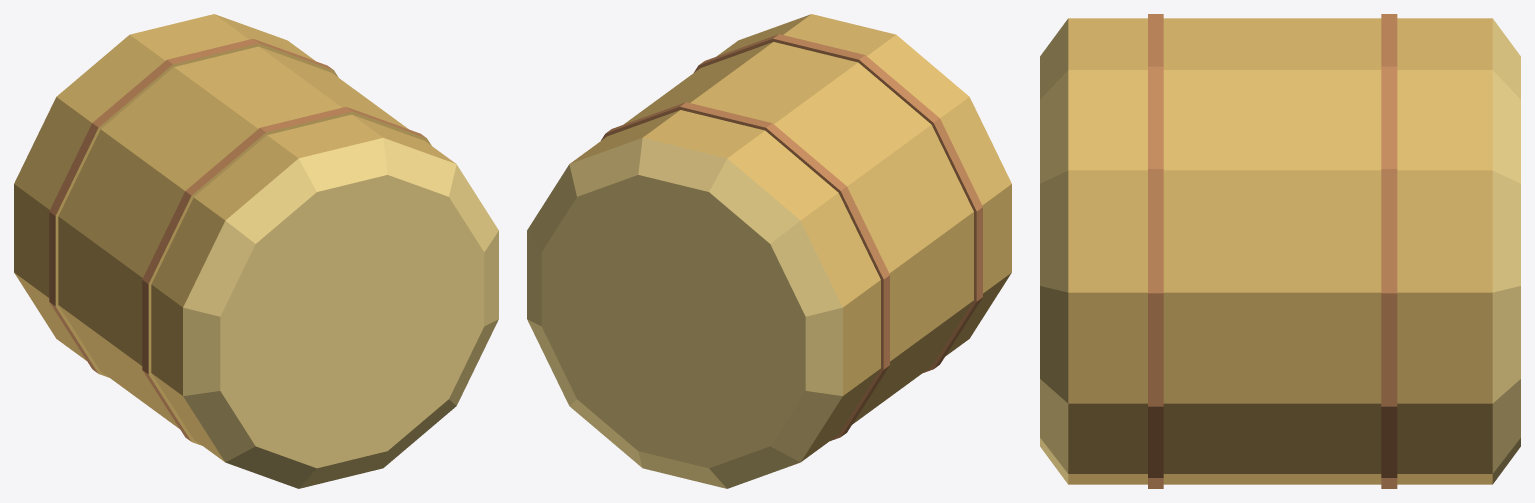
The model's file is Botte_De_Foin.fbx.
The picture shows the model from 3 angles, left to right: view 1: azimuth 30°, elevation 25°; view 2: azimuth 150°, elevation 25°; view 3: azimuth 270°, elevation 25°; orthographic projection. The views are drawn at different scales.
Parts seen in each view (by area): view 1: Botte_De_Foin; view 2: Botte_De_Foin; view 3: Botte_De_Foin.
Boxes of the visible parts, <box> form: Botte_De_Foin: <box>14,14,498,488</box>; Botte_De_Foin: <box>527,14,1011,488</box>; Botte_De_Foin: <box>1040,14,1520,488</box>.
Bounding box in the file's own units: 132 × 132 × 136.
1 material, 1 textured.
